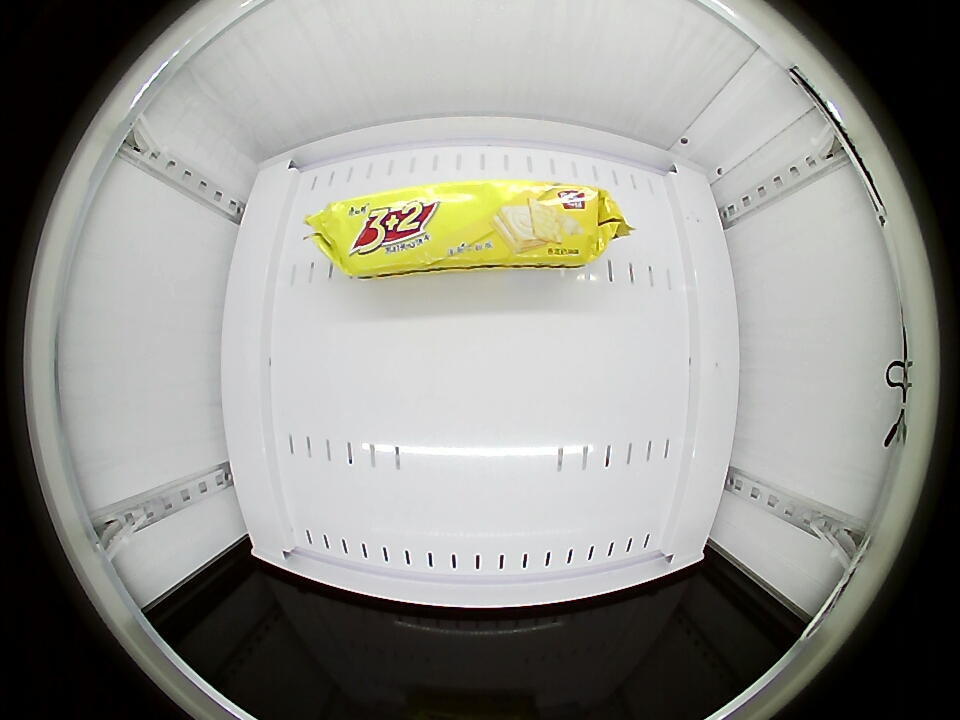3+2-2: (326, 179, 607, 274)
